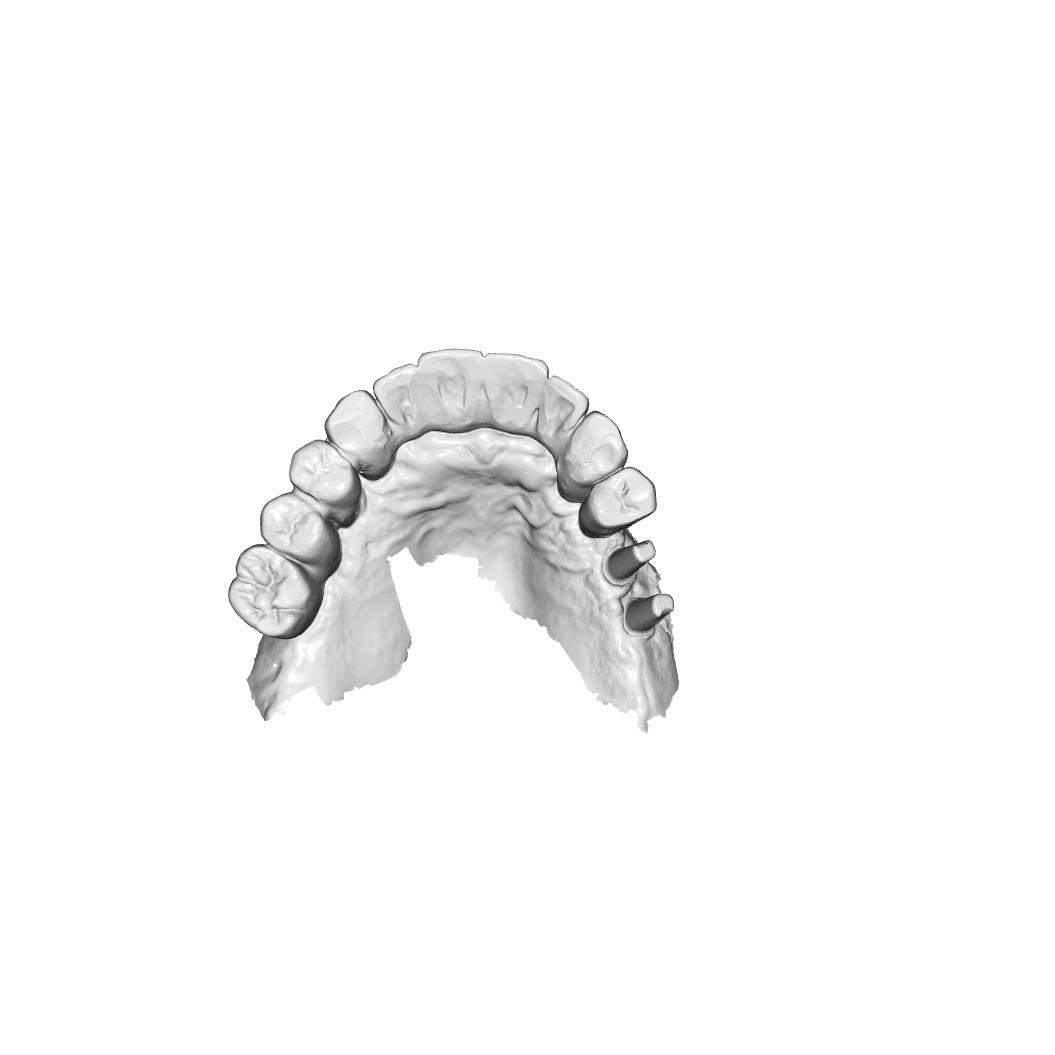abutment: (626, 590, 676, 641), (605, 538, 656, 584)
canine: (324, 386, 388, 466), (565, 408, 633, 482)
incisor: (418, 345, 489, 436), (484, 345, 548, 430), (369, 359, 423, 439), (539, 372, 587, 446)
molar: (225, 542, 318, 641)
premolar: (259, 492, 331, 560), (287, 439, 356, 509), (585, 466, 657, 533)
